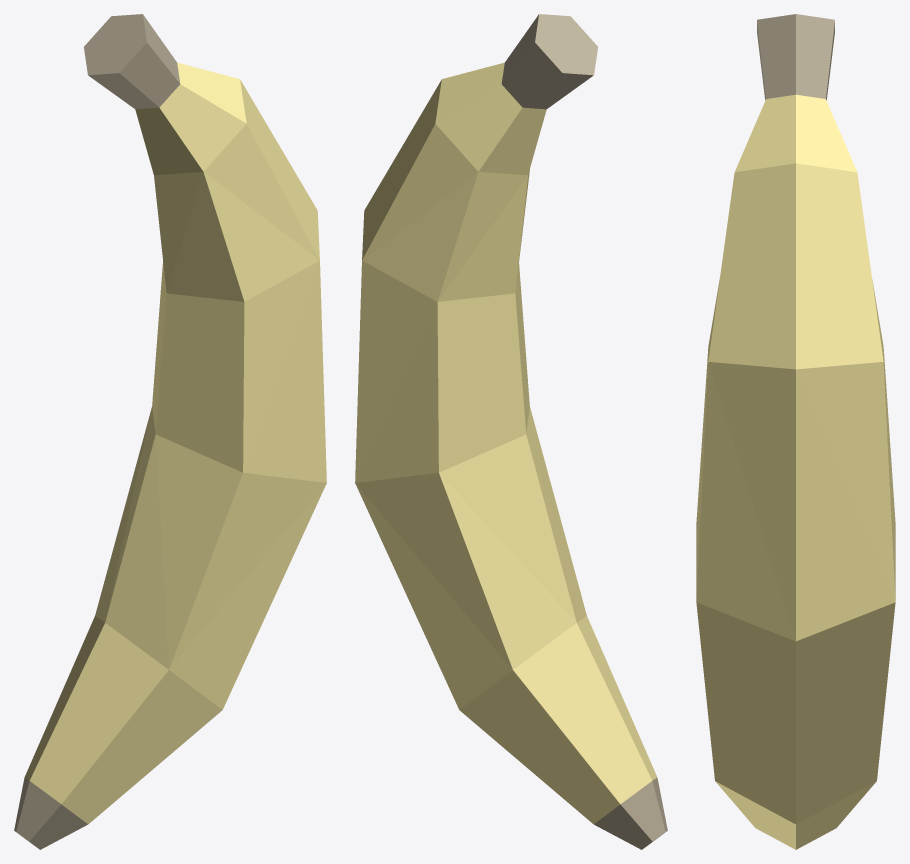
Rendered from Banana.fbx.
3 views of the same model, side by side, from view 1: azimuth 30°, elevation 25°; view 2: azimuth 150°, elevation 25°; view 3: azimuth 270°, elevation 25° (orthographic). The views are drawn at different scales.
Parts seen in each view (by area): view 1: Banana; view 2: Banana; view 3: Banana.
Part boxes in pixels (x1=…): Banana: x1=14, y1=14, x2=326, y2=849; Banana: x1=355, y1=14, x2=667, y2=849; Banana: x1=696, y1=14, x2=895, y2=849.
Bounding box in the file's own units: 0.1445 × 0.3637 × 0.0741.
